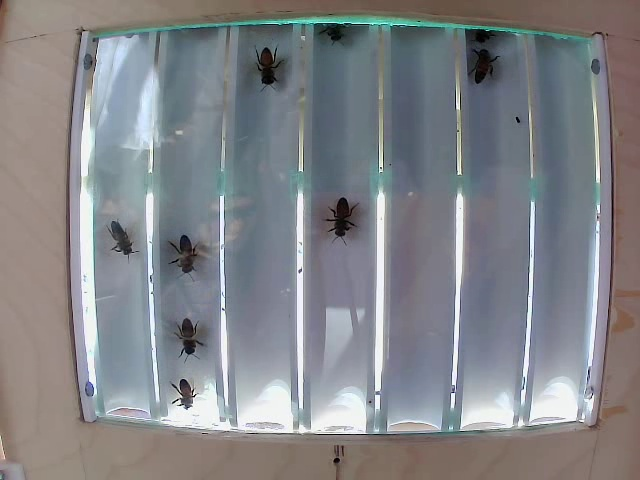bee: (321, 193, 362, 243), (167, 236, 209, 281), (98, 219, 141, 260), (169, 307, 206, 353), (256, 47, 289, 95), (460, 44, 498, 84), (170, 370, 207, 407)
